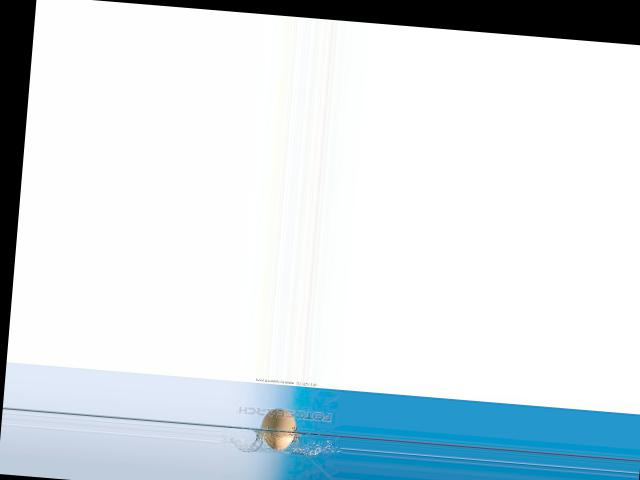egg: (259, 407, 296, 451)
